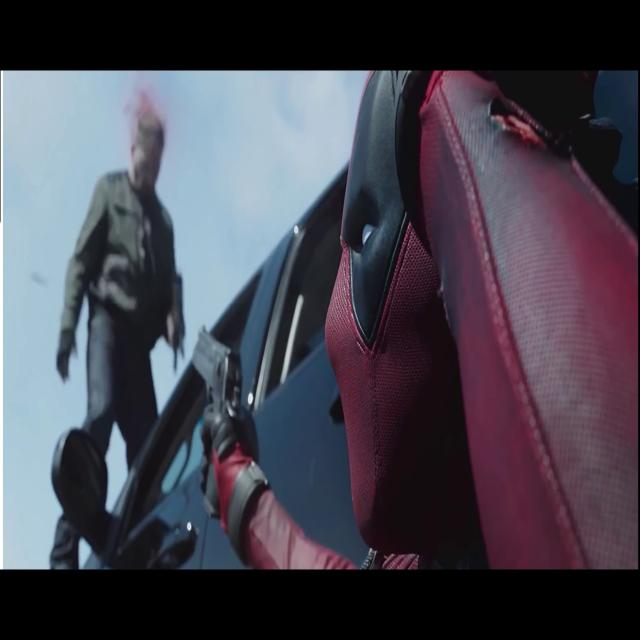weapons: (186, 280, 268, 500)
